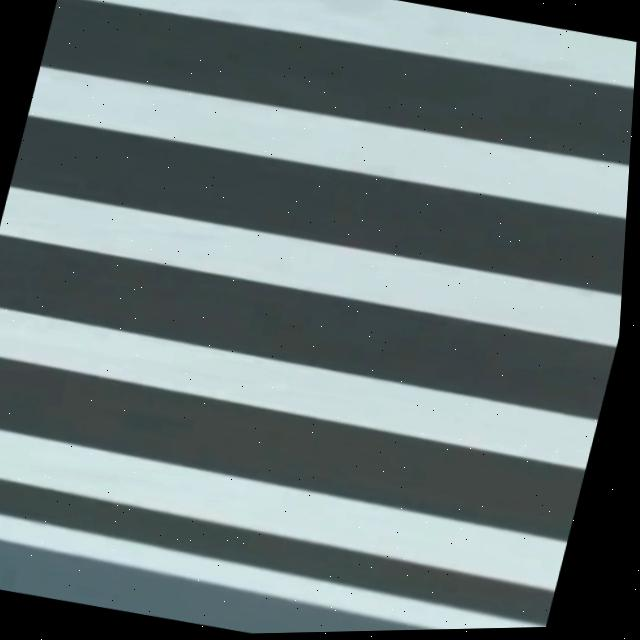left: (0, 515, 546, 630)
